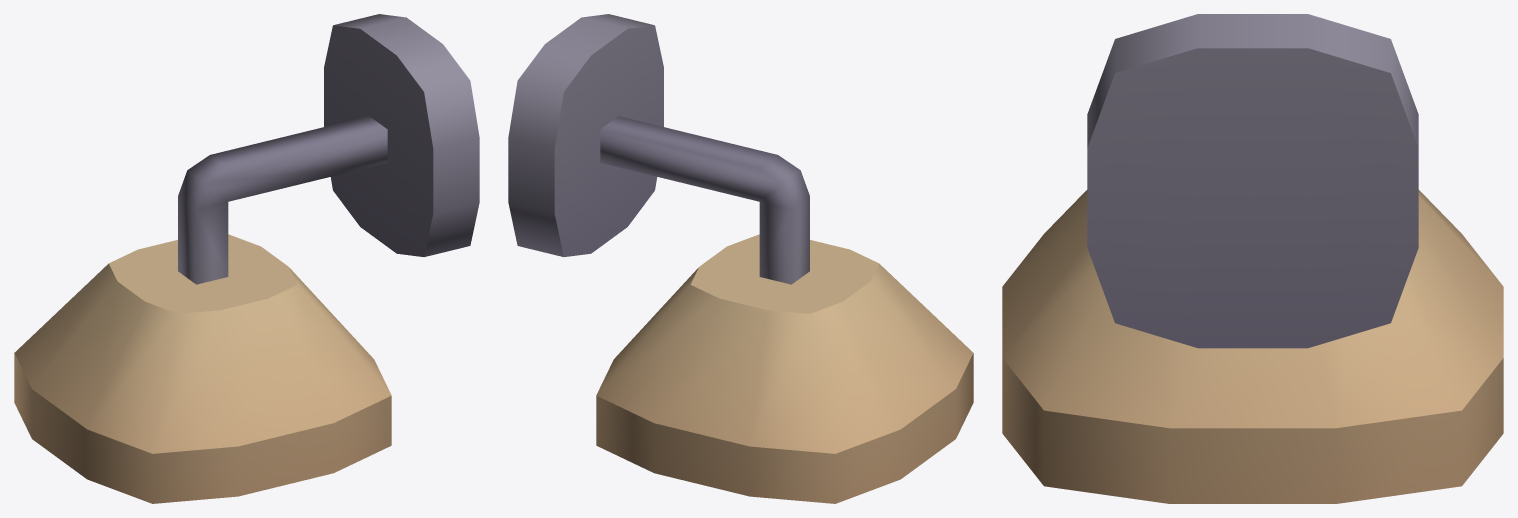
The model's file is lamp-standard-wall-downwards (%wall).glb.
The picture shows the model from 3 angles, left to right: view 1: azimuth 30°, elevation 25°; view 2: azimuth 150°, elevation 25°; view 3: azimuth 270°, elevation 25°; orthographic projection. The views are drawn at different scales.
Parts seen in each view (by area): view 1: lamp-standard-wall-downwards (%wall); view 2: lamp-standard-wall-downwards (%wall); view 3: lamp-standard-wall-downwards (%wall).
Boxes of the visible parts, <box> form: lamp-standard-wall-downwards (%wall): <box>14,14,479,503</box>; lamp-standard-wall-downwards (%wall): <box>508,14,973,503</box>; lamp-standard-wall-downwards (%wall): <box>1002,14,1503,503</box>.
Size of the model in its own units: 0.2863 by 0.2542 by 0.225.
